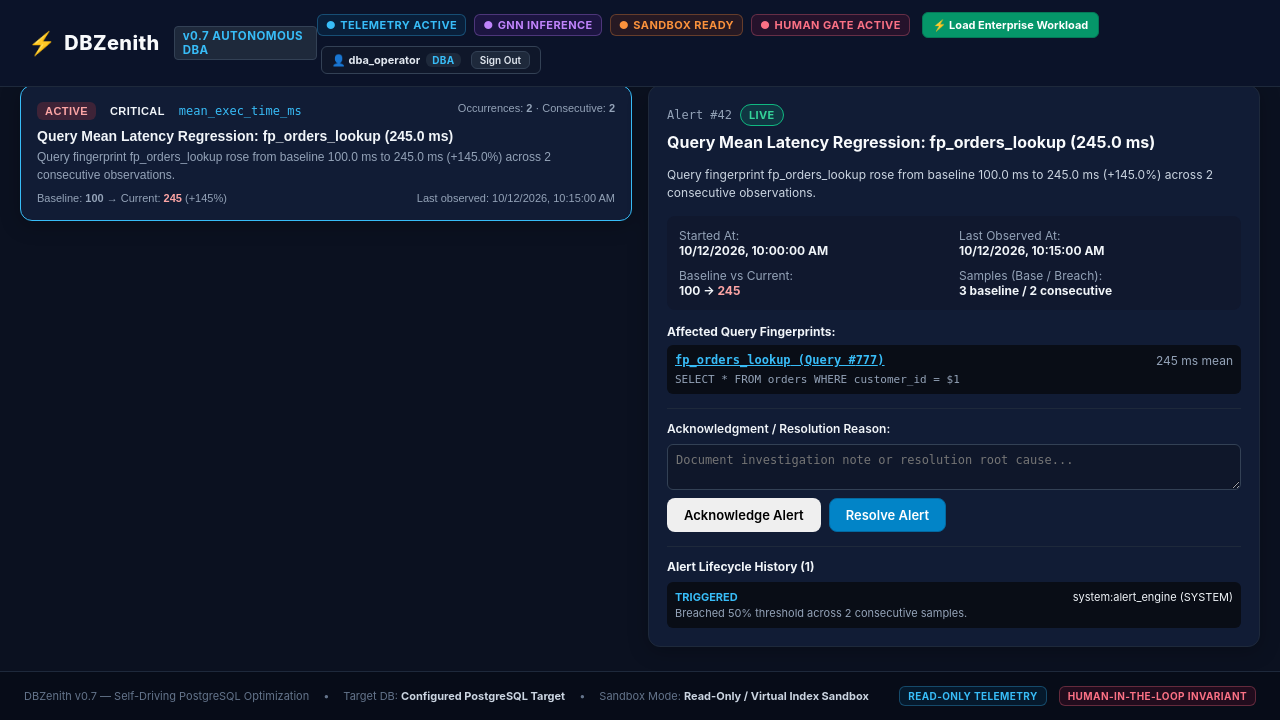
Test case: DBZenith Authentication, Session & RBAC Suite › Phase 8: Workload Regression Alerts renders active/acknowledged/resolved states, insufficient history diagnostics, and DBA acknowledgment/resolution workflow
(page scrolled)
# Acknowledge the active alert
In the text box with placeholder "Document investigation note or resolution root cause...": x=954, y=467 [667,444,1241,490], type "Investigating missing index on orders.customer_id"
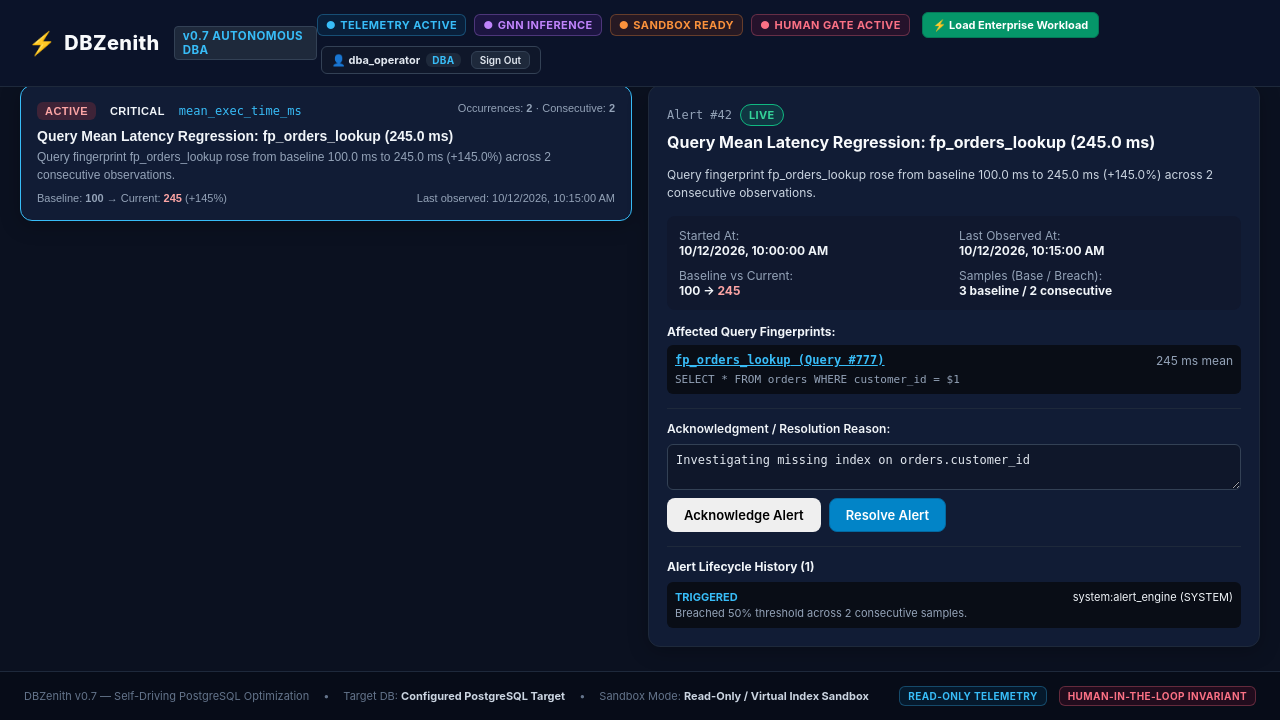
Click the button "Acknowledge Alert": x=744, y=515 [667,498,821,532]
(page scrolled)
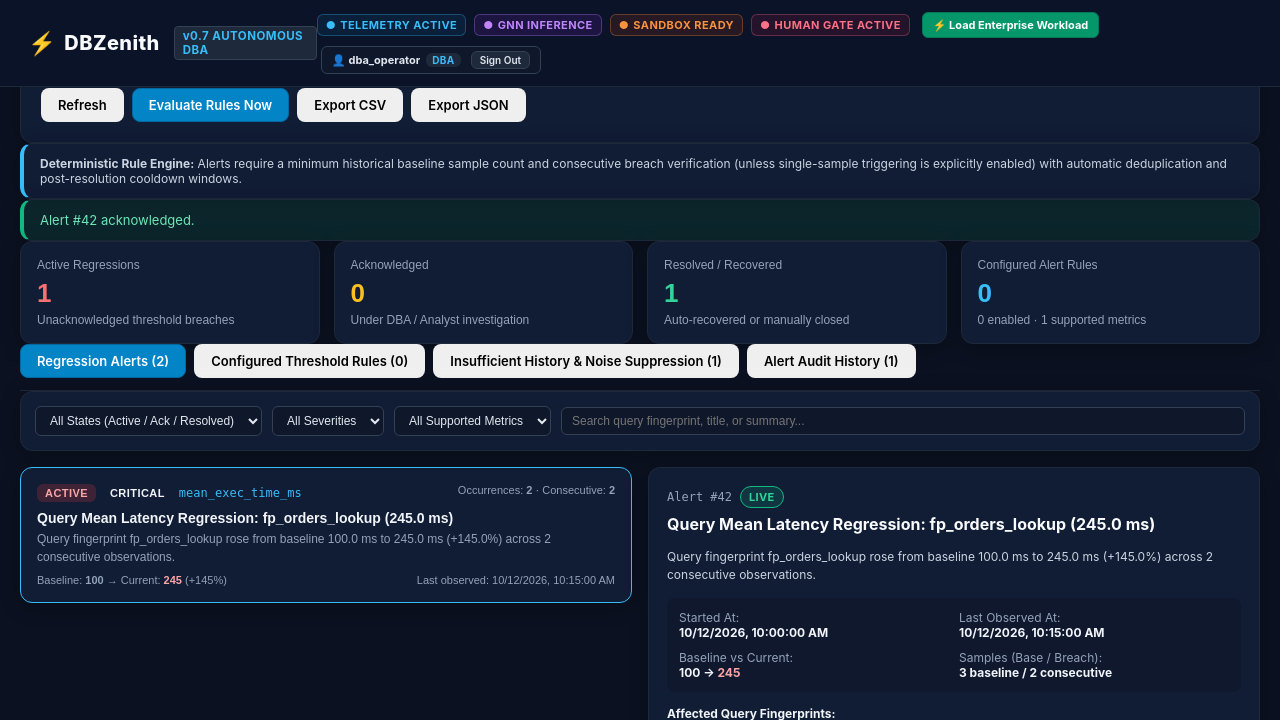
# Switch to Diagnostics tab and verify insufficient history is explicitly surfaced
Click the button "Insufficient History & Noise Suppression (1)": x=586, y=361 [433,344,739,378]
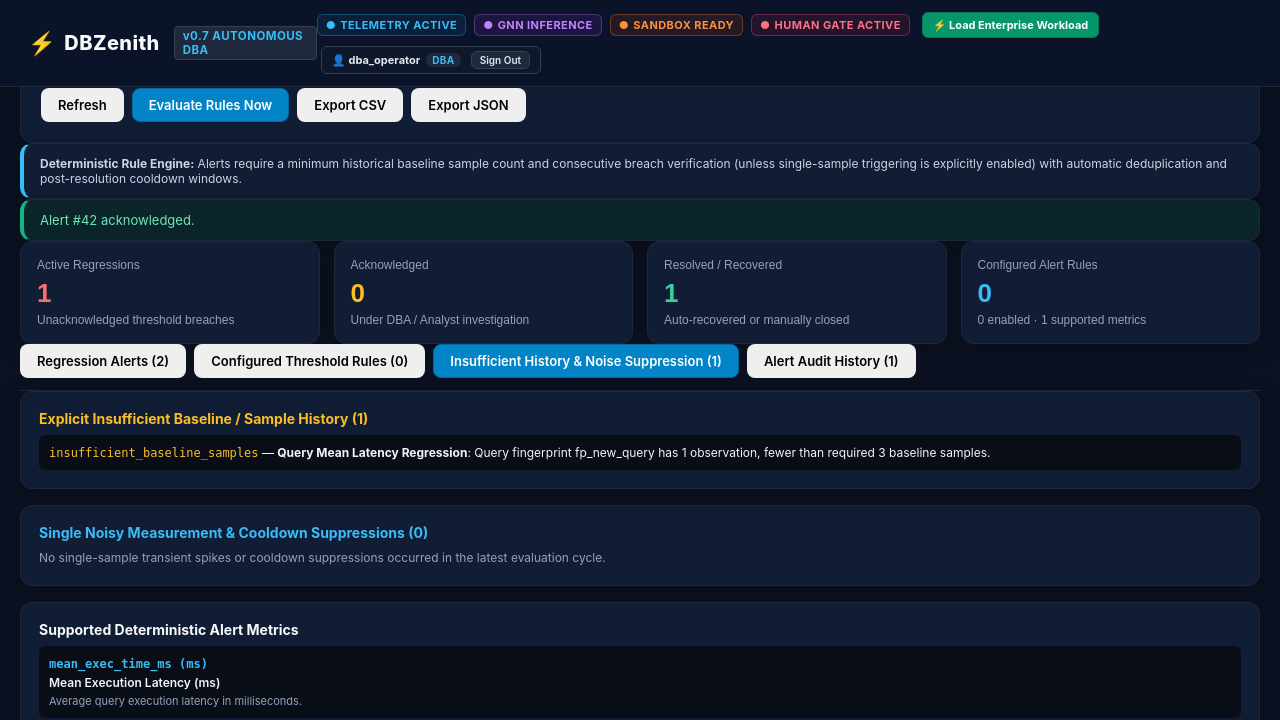
Check: the element with test id "insufficient-history-section" shows "insufficient_baseline_samples", box [49,446,258,460]
